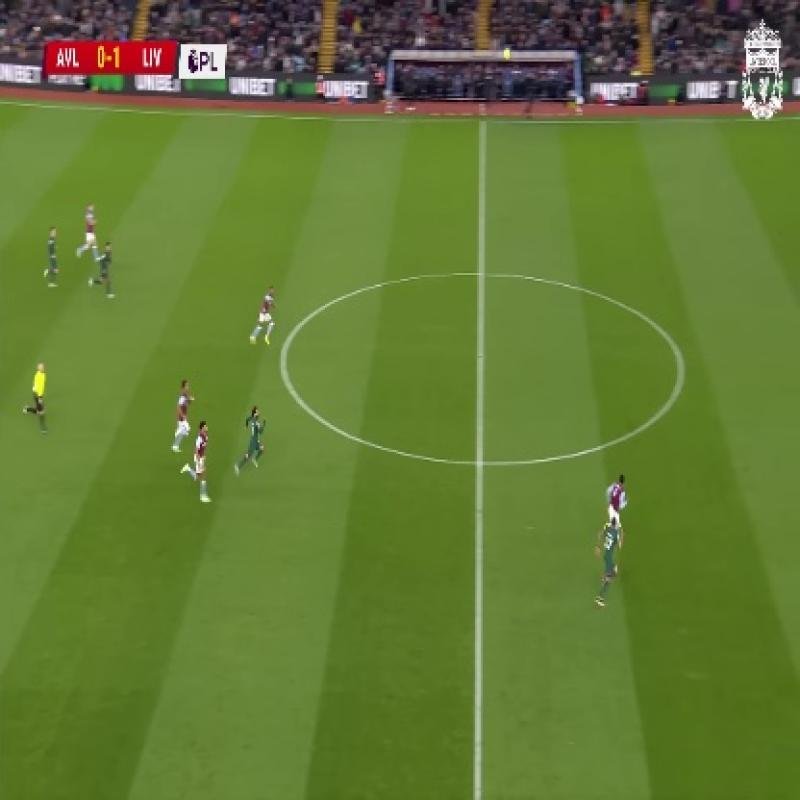13: (471, 102, 496, 138)
14: (462, 252, 496, 294)
15: (462, 438, 494, 485)
c: (263, 336, 305, 396), (661, 345, 702, 397)
